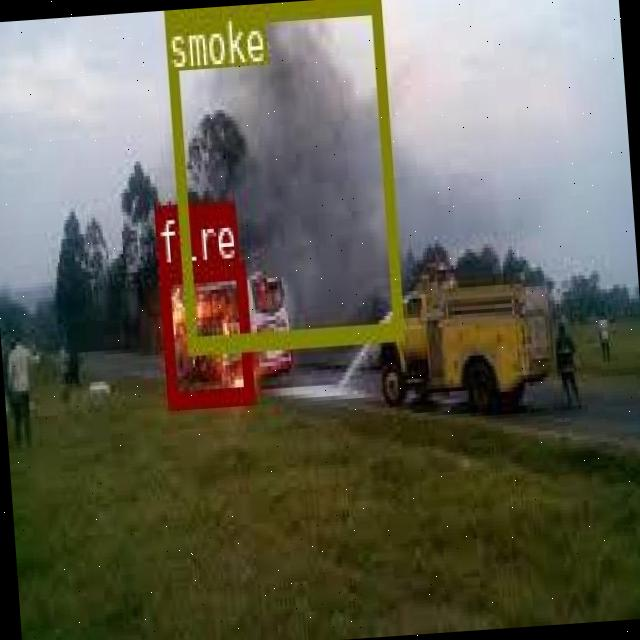fire: (156, 259, 252, 406)
smoke: (163, 0, 401, 352)
